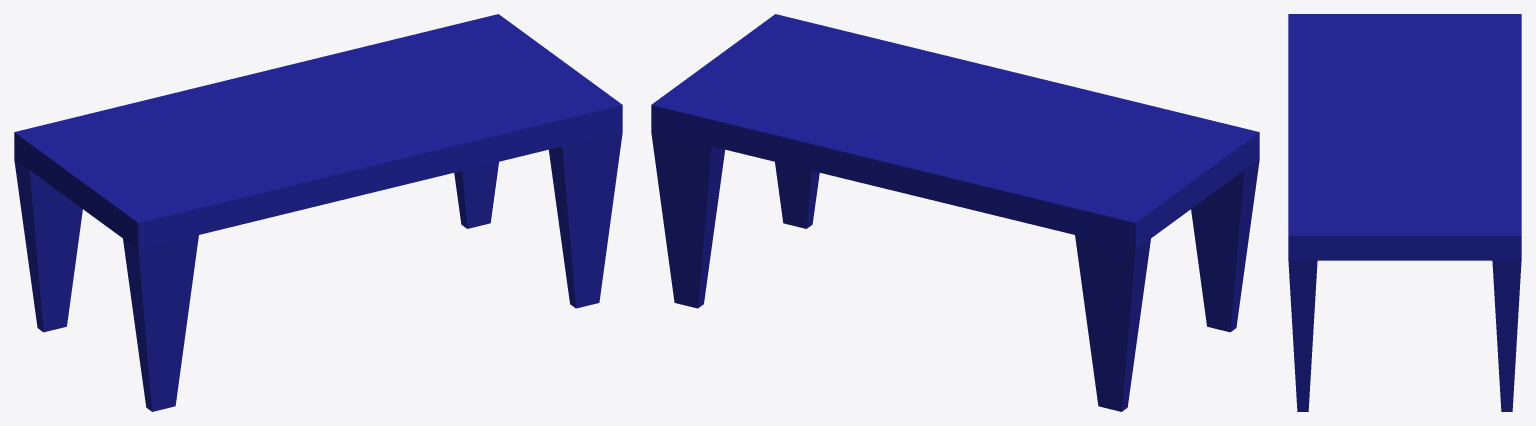
The model's file is Desk.fbx.
The picture shows the model from 3 angles, left to right: view 1: azimuth 30°, elevation 25°; view 2: azimuth 150°, elevation 25°; view 3: azimuth 270°, elevation 25°; orthographic projection. The views are drawn at different scales.
Parts seen in each view (by area): view 1: Cube; view 2: Cube; view 3: Cube.
Part boxes in pixels (x1=…): Cube: x1=14, y1=14, x2=622, y2=411; Cube: x1=651, y1=14, x2=1259, y2=411; Cube: x1=1288, y1=14, x2=1521, y2=411.
Bounding box in the file's own units: 661 × 257 × 294.
